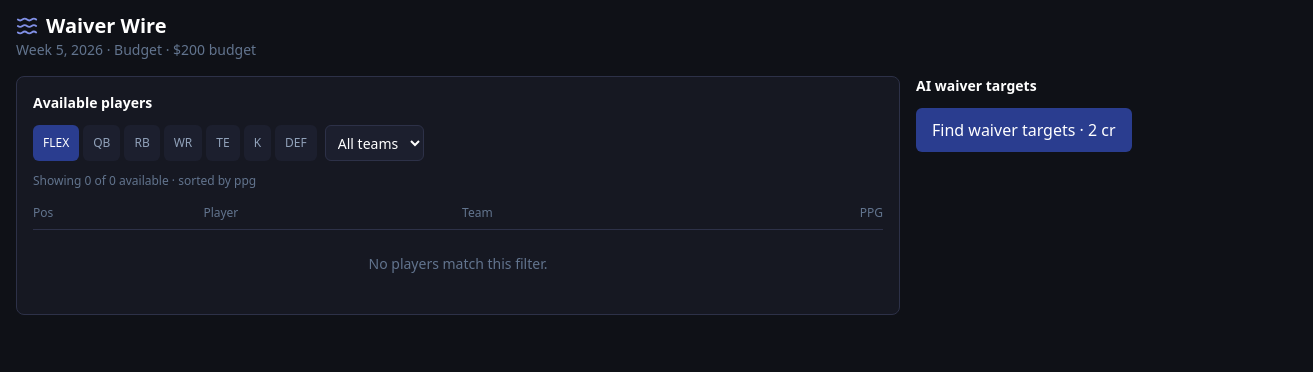
Scenario: Waiver page — the recommendation panel labels assumed money › says the SPEND is the unknown when the budget was read but the spend was not
Click the button "Find waiver targets · 2 cr" at {"x": 1024, "y": 130}, box [916,108,1132,152]
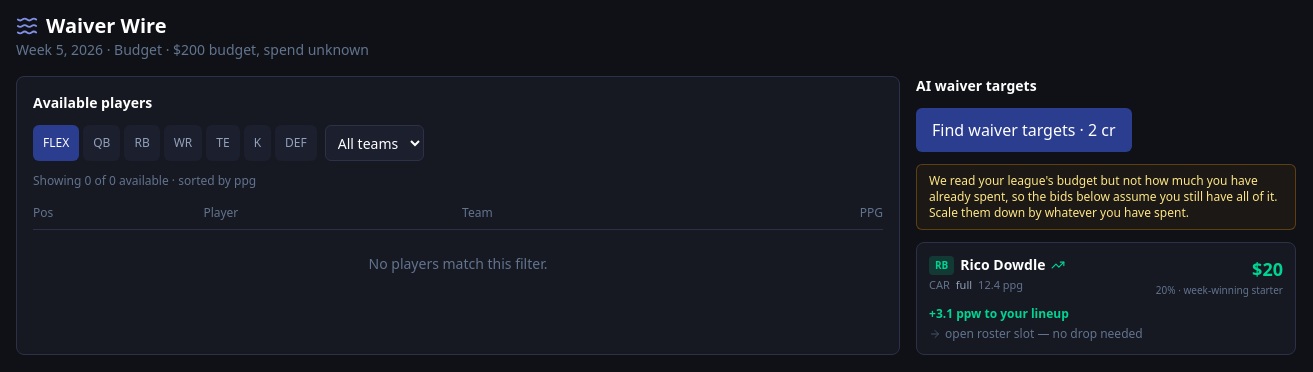
Expected: the text "assume you still have all of it" is shown, [929,172,1277,221]
Expected: the text "Week 5, 2026 · Budget · $200 budget, spend unknown" is shown, [16,40,369,60]
